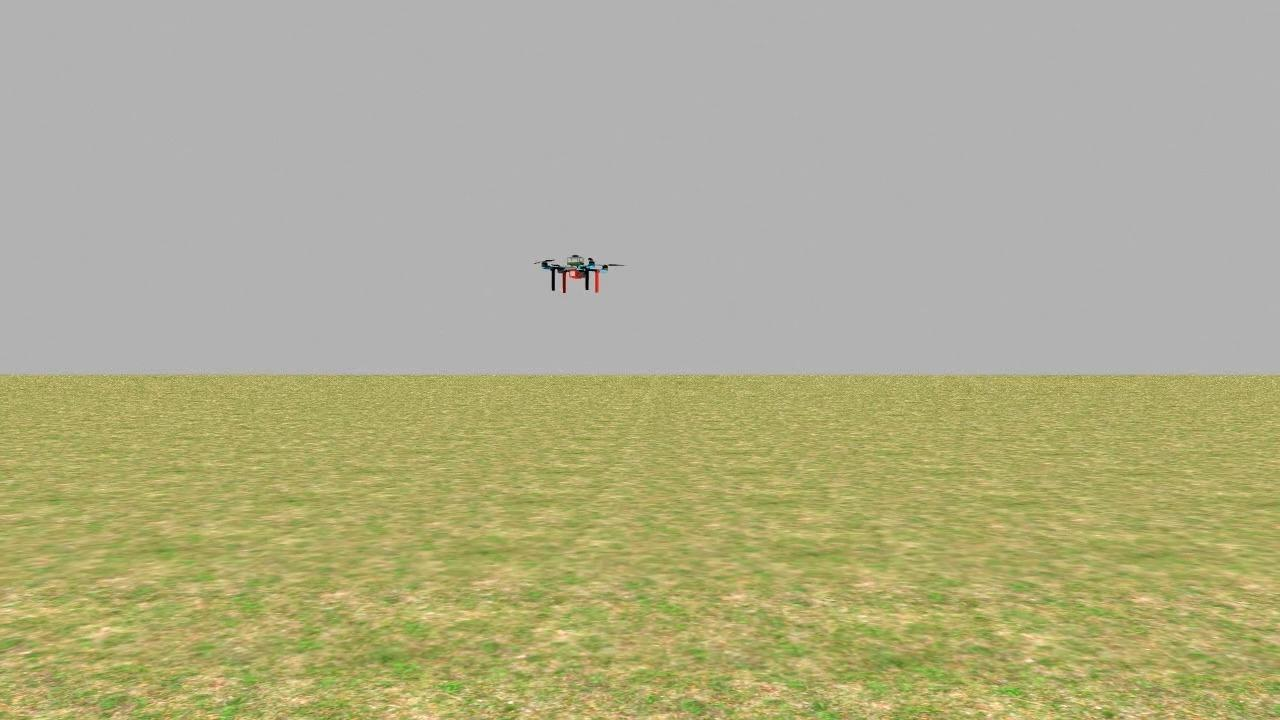UAV: (533, 236, 619, 304)
